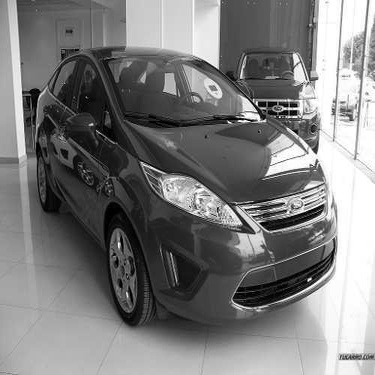car: (28, 41, 344, 332), (220, 42, 327, 161), (319, 75, 366, 123), (351, 70, 374, 108)
